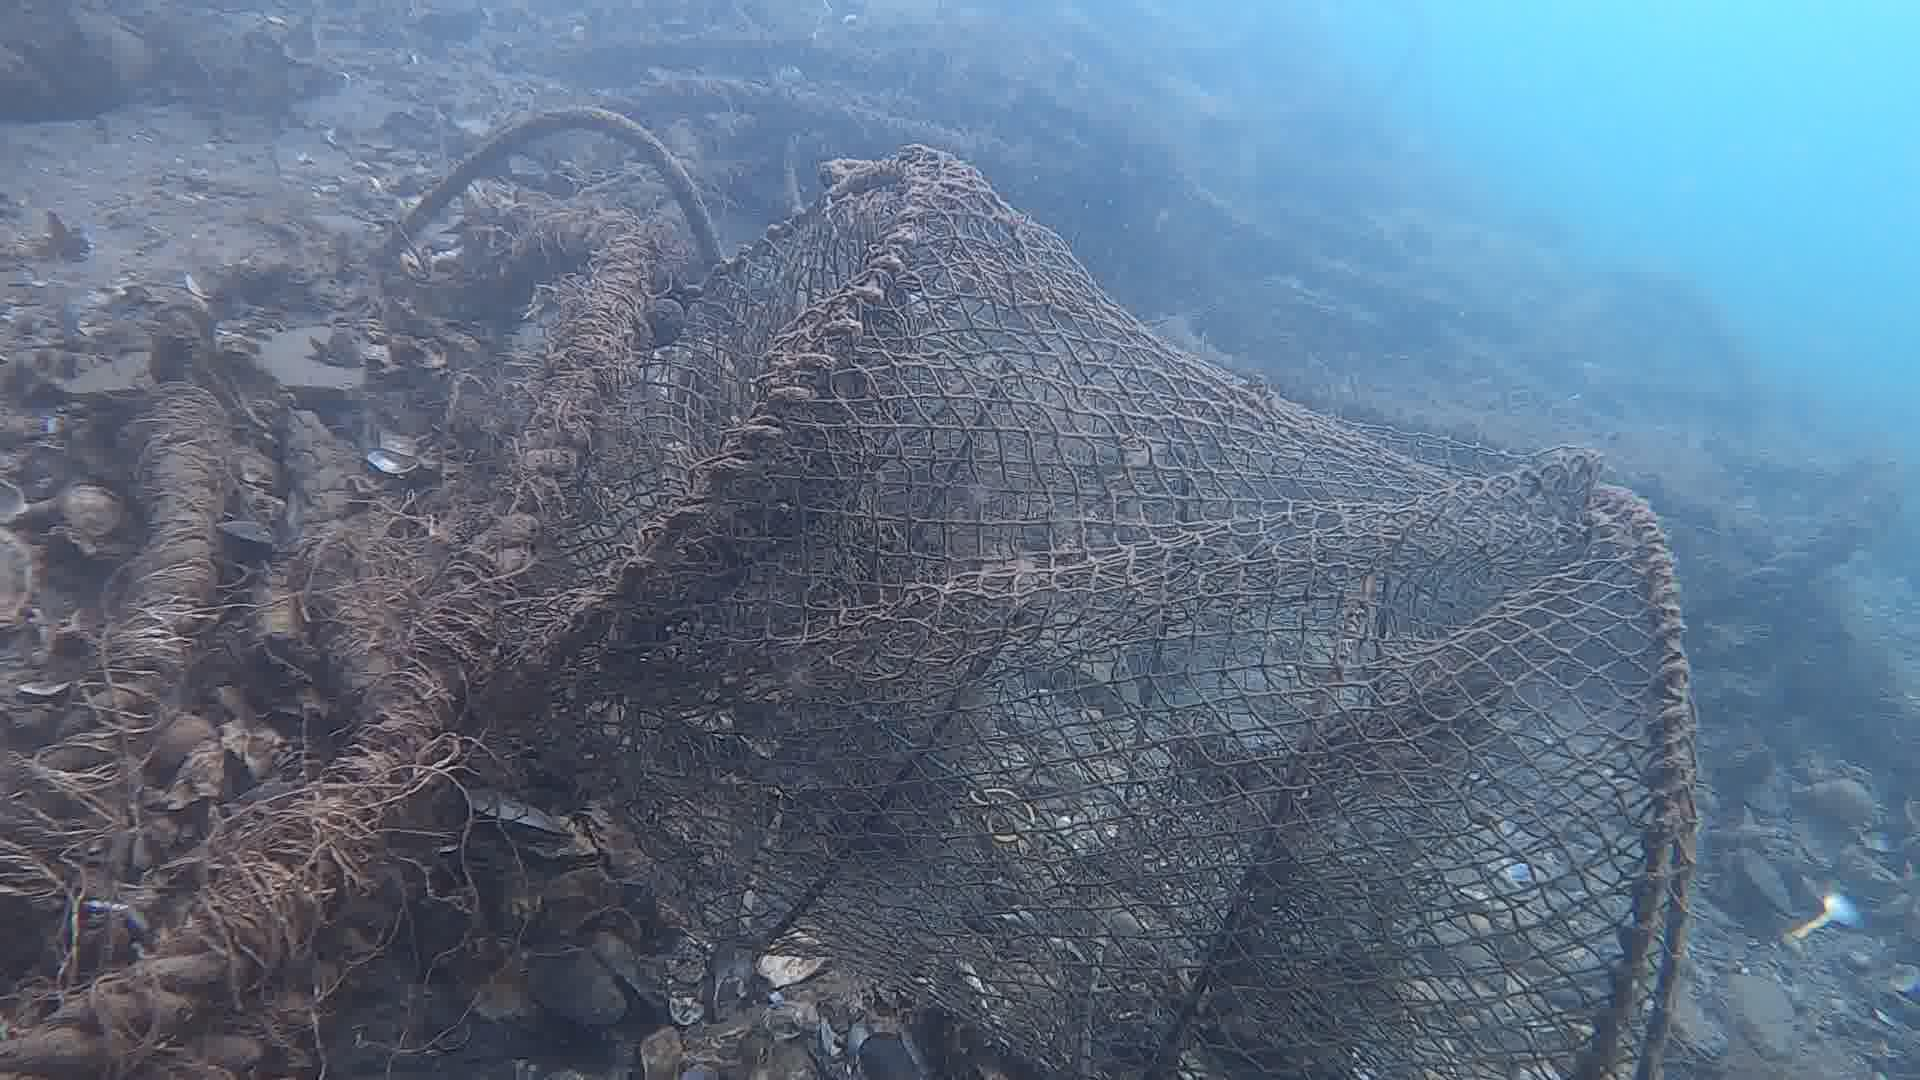bundle of ropes: (51, 402, 386, 756)
rope: (0, 923, 232, 1073)
spring fish trap: (443, 145, 1695, 1080)
